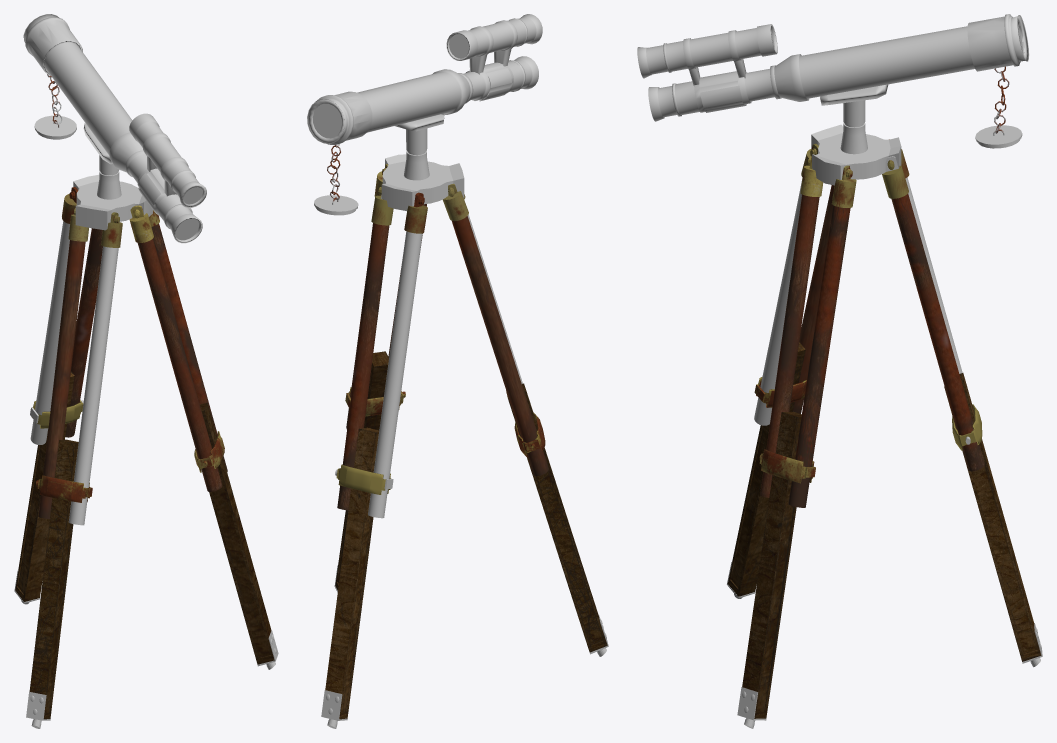
3 views of the same model, side by side, from view 1: azimuth 30°, elevation 25°; view 2: azimuth 150°, elevation 25°; view 3: azimuth 270°, elevation 25° (orthographic). The views are drawn at different scales.
Visible parts, largest first — view 1: polySurface84, polySurface113, polySurface170, polySurface97, polySurface169, polySurface112, polySurface151, polySurface83, polySurface135, polySurface150, stand_tripod, polySurface166 (+7 smaller); view 2: polySurface84, polySurface151, polySurface135, polySurface112, polySurface150, polySurface113, polySurface83, stand_tripod, polySurface170, stand_pole, polySurface137, scope_front_A (+5 smaller); view 3: polySurface84, polySurface170, polySurface166, polySurface150, polySurface151, polySurface169, polySurface83, polySurface113, stand_tripod, polySurface97, polySurface112, stand_pole (+4 smaller).
Boxes of the visible parts, x1,y1,x2,y2 form: polySurface84: [23, 14, 202, 243]; polySurface113: [29, 439, 78, 719]; polySurface170: [200, 402, 274, 664]; polySurface97: [68, 246, 118, 525]; polySurface169: [137, 239, 222, 491]; polySurface112: [38, 240, 85, 518]; polySurface151: [15, 371, 74, 601]; polySurface83: [129, 113, 206, 207]; polySurface135: [30, 221, 69, 444]; polySurface150: [65, 228, 102, 437]; stand_tripod: [73, 174, 152, 230]; polySurface166: [151, 223, 227, 471]; polySurface84: [307, 56, 538, 144]; polySurface151: [325, 427, 379, 719]; polySurface135: [368, 231, 422, 518]; polySurface112: [452, 216, 548, 476]; polySurface150: [337, 199, 389, 510]; polySurface113: [506, 383, 607, 652]; polySurface83: [446, 14, 542, 74]; stand_tripod: [381, 154, 464, 210]; polySurface170: [335, 351, 388, 590]; stand_pole: [404, 128, 429, 180]; polySurface137: [338, 464, 386, 494]; scope_front_A: [313, 103, 341, 138]; polySurface84: [648, 14, 1029, 121]; polySurface170: [742, 411, 801, 718]; polySurface166: [788, 205, 850, 507]; polySurface150: [891, 166, 984, 471]; polySurface151: [944, 373, 1041, 661]; polySurface169: [760, 194, 819, 497]; polySurface83: [637, 24, 777, 85]; polySurface113: [727, 342, 805, 596]; stand_tripod: [811, 124, 901, 185]; polySurface97: [754, 179, 802, 425]; polySurface112: [793, 185, 834, 413]; stand_pole: [840, 100, 867, 154].
Size of the model in its own units: 0.908 by 2 by 1.12.
